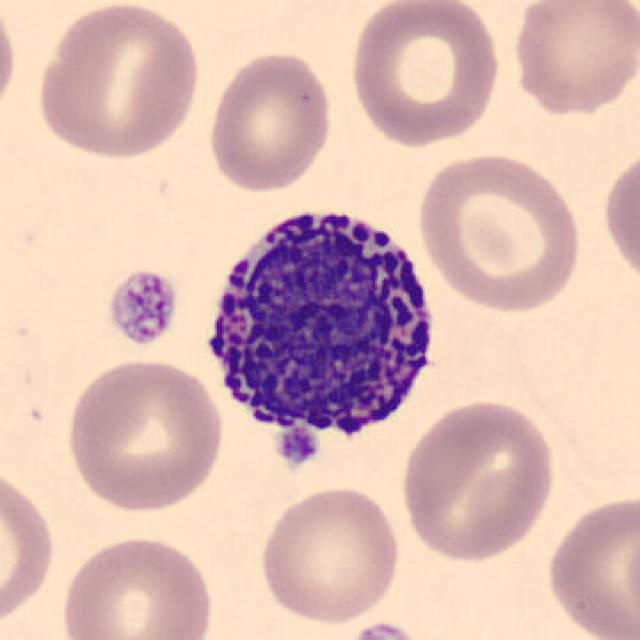Basophil: (192, 189, 452, 481)
Platelets: (102, 265, 182, 349), (274, 423, 322, 473), (351, 617, 426, 640)
RBC: (412, 148, 586, 316), (30, 0, 206, 164), (395, 393, 560, 566), (61, 354, 228, 513), (345, 0, 507, 150), (254, 481, 406, 626), (204, 46, 336, 196), (55, 530, 218, 640), (507, 0, 638, 120), (540, 488, 638, 640), (0, 462, 59, 635), (599, 143, 640, 294), (0, 0, 21, 127)
